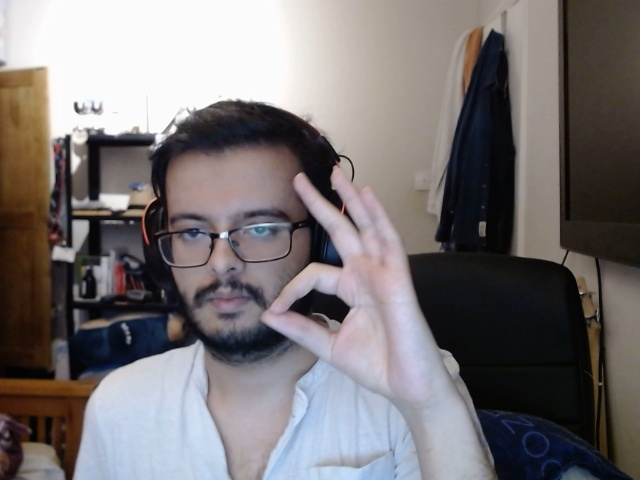Okay: (257, 165, 458, 400)
